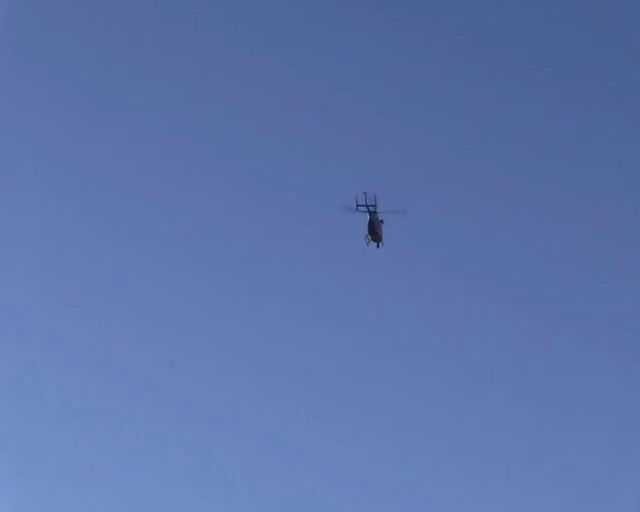HELICOPTER: (342, 191, 408, 249)
